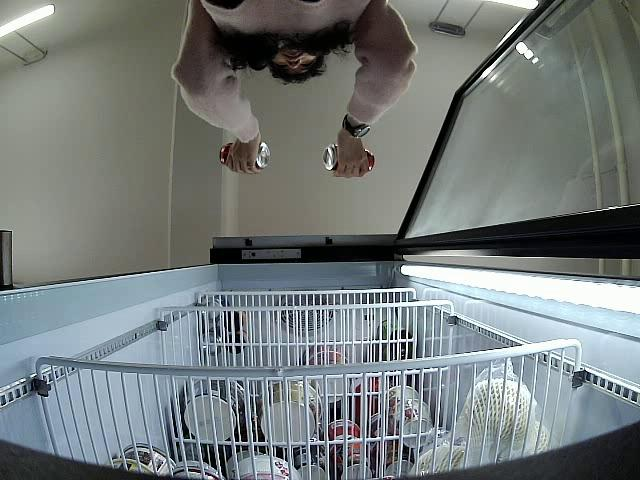00_hand: (333, 133, 370, 179), (226, 142, 262, 175)
11_cocaColaZero: (323, 145, 376, 173), (220, 145, 271, 170)
